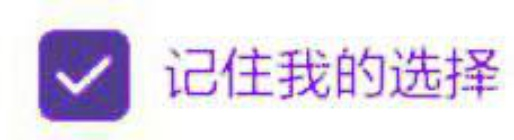CheckBox: (1, 1, 513, 139)
